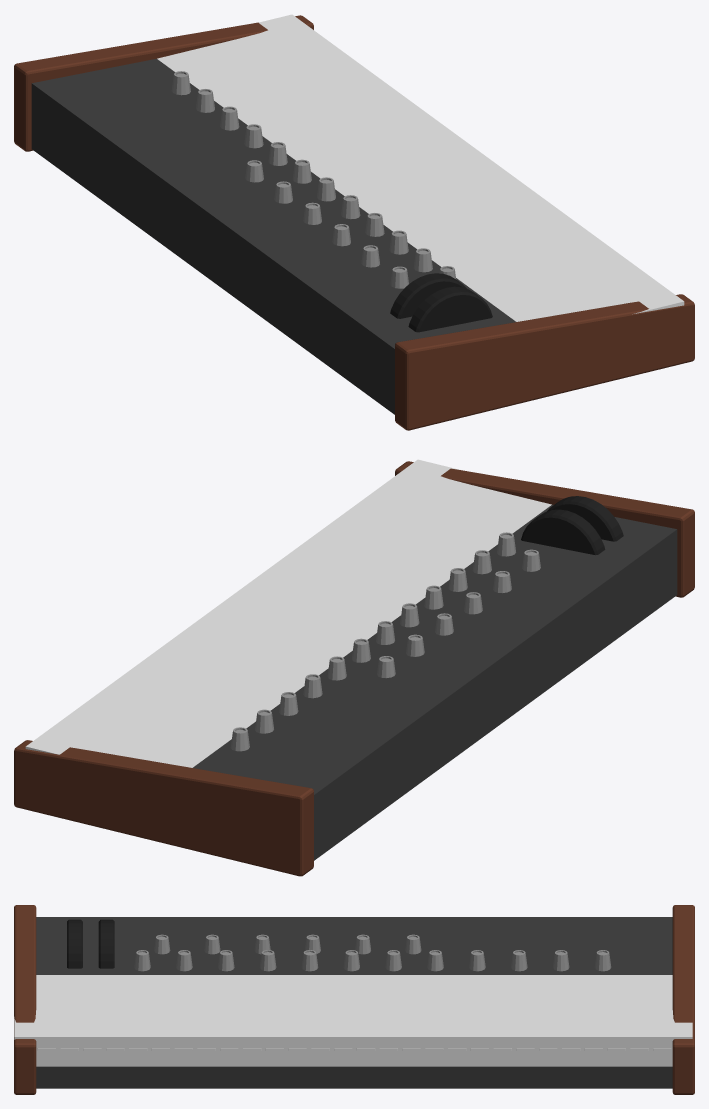
File: synth.glb
The picture shows the model from 3 angles, top to bottom: view 1: azimuth 30°, elevation 25°; view 2: azimuth 150°, elevation 25°; view 3: azimuth 270°, elevation 25°; orthographic projection. The views are drawn at different scales.
Parts seen in each view (by area): view 1: Cube, BoundingBox, Cube.002, Cylinder.002, Cylinder, Cylinder.003, Cylinder.001; view 2: Cube, BoundingBox, Cube.002, Cylinder.002, Cylinder.001, Cylinder.003, Cylinder; view 3: BoundingBox, Cube, Cube.002, Cylinder.002, Cylinder.003, Cube.001, Cylinder.001, Cylinder.
Part boxes in pixels (left/top/right/bottom): Cube: left=31, top=58, right=515, bottom=414; BoundingBox: left=157, top=14, right=684, bottom=321; Cube.002: left=14, top=15, right=694, bottom=430; Cylinder.002: left=171, top=71, right=456, bottom=279; Cylinder: left=408, top=286, right=492, bottom=332; Cylinder.003: left=245, top=160, right=408, bottom=288; Cylinder.001: left=390, top=273, right=466, bottom=318; Cube: left=193, top=504, right=677, bottom=860; BoundingBox: left=25, top=459, right=551, bottom=767; Cube.002: left=14, top=461, right=694, bottom=876; Cylinder.002: left=230, top=532, right=515, bottom=751; Cylinder.001: left=521, top=509, right=605, bottom=555; Cylinder.003: left=377, top=549, right=540, bottom=678; Cylinder: left=547, top=496, right=623, bottom=541; BoundingBox: left=14, top=975, right=692, bottom=1066; Cube: left=36, top=917, right=672, bottom=1088; Cube.002: left=14, top=905, right=694, bottom=1094; Cylinder.002: left=134, top=950, right=611, bottom=971; Cylinder.003: left=154, top=934, right=421, bottom=954; Cube.001: left=37, top=1048, right=671, bottom=1050; Cylinder.001: left=98, top=919, right=114, bottom=968; Cylinder: left=67, top=919, right=82, bottom=968.
Size of the model in its own units: 0.999 by 0.3194 by 2.35.
